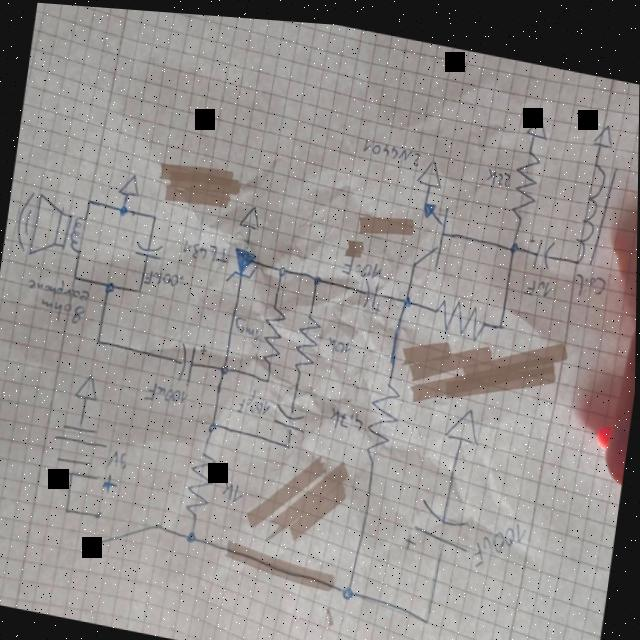capacitor: (404, 488, 478, 556), (174, 335, 211, 386), (525, 225, 557, 264), (273, 398, 310, 430), (358, 273, 386, 310), (133, 235, 166, 260)
ground: (443, 396, 487, 443), (416, 151, 445, 185), (75, 371, 102, 402), (591, 111, 617, 142), (238, 199, 263, 230), (524, 105, 550, 133), (118, 167, 143, 196)
inductor: (570, 149, 620, 263)
junction: (341, 577, 358, 598), (185, 526, 202, 544), (508, 232, 522, 248), (104, 278, 118, 294), (402, 288, 414, 304), (208, 417, 220, 432), (119, 202, 131, 217), (220, 360, 231, 374), (313, 268, 323, 282), (424, 608, 434, 621), (64, 503, 73, 516), (279, 261, 288, 274), (96, 335, 104, 346), (72, 272, 80, 282), (286, 437, 294, 446), (87, 196, 95, 205), (498, 315, 505, 325), (265, 372, 272, 382), (137, 284, 144, 294), (152, 211, 159, 220)
resistor: (364, 371, 404, 461), (431, 288, 491, 337), (507, 139, 543, 218), (185, 445, 220, 518), (260, 297, 294, 364), (290, 306, 324, 369)
source: (47, 414, 127, 495)
switch: (90, 505, 164, 554)
text: (472, 507, 531, 570), (24, 272, 94, 305), (361, 131, 423, 164), (37, 295, 88, 328), (181, 235, 231, 265), (341, 247, 385, 277), (572, 260, 609, 295), (145, 378, 191, 406), (328, 399, 369, 429), (238, 384, 276, 416), (143, 264, 186, 290), (523, 266, 557, 294), (234, 311, 266, 340), (220, 476, 248, 502), (484, 158, 512, 183), (325, 330, 354, 353), (108, 446, 132, 473)
thyristor: (228, 240, 261, 283)
transistor: (407, 190, 451, 271)
